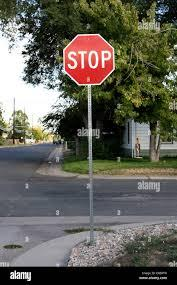Pole: (87, 85, 93, 242)
Sign: (65, 33, 113, 87)
